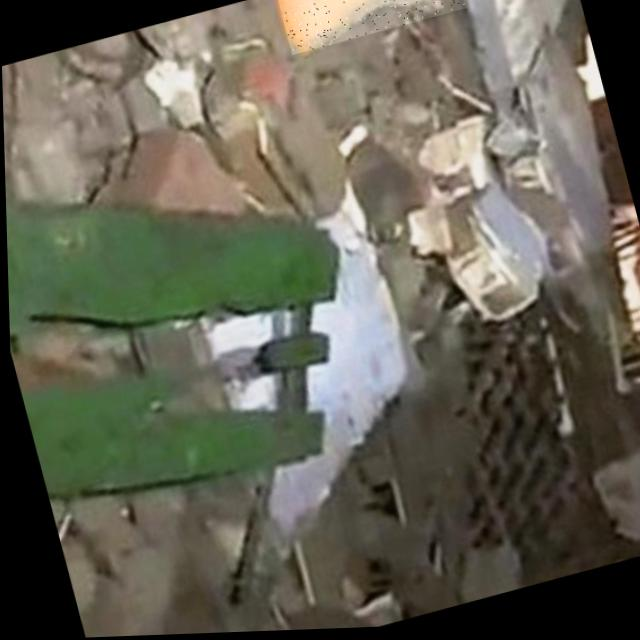Person in Rubble: (274, 0, 467, 57)
